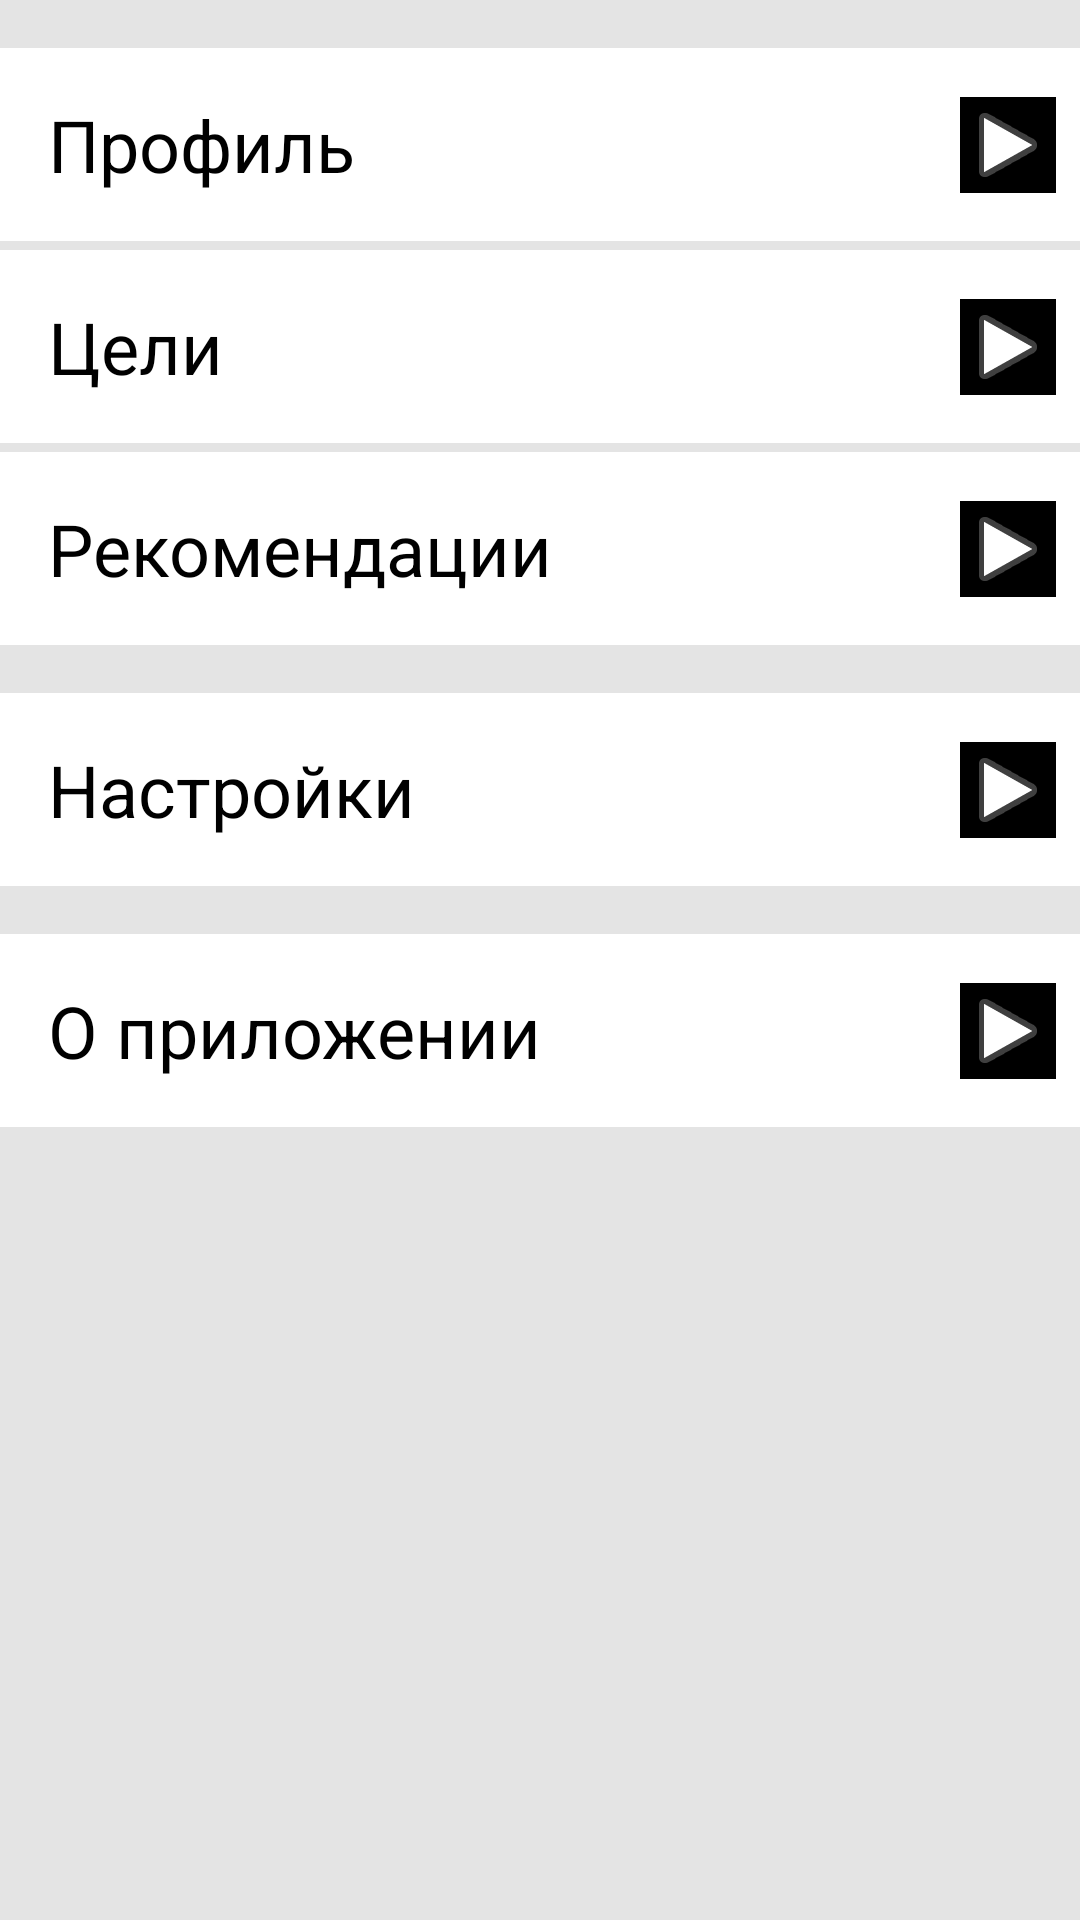

Icon click points for this 1080px x 1920px phone screenshot, format (x=x, y=y):
Стрелка: (x=1008, y=145), (x=1008, y=347), (x=1008, y=549), (x=1008, y=790), (x=1008, y=1031)
